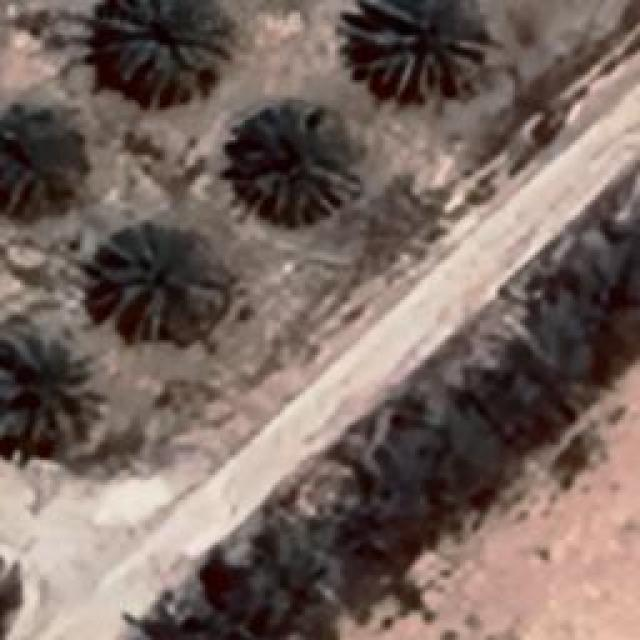PalmTree: (235, 100, 363, 225), (92, 220, 226, 338), (347, 0, 482, 102), (100, 0, 225, 98), (2, 104, 90, 216), (0, 340, 95, 442)
